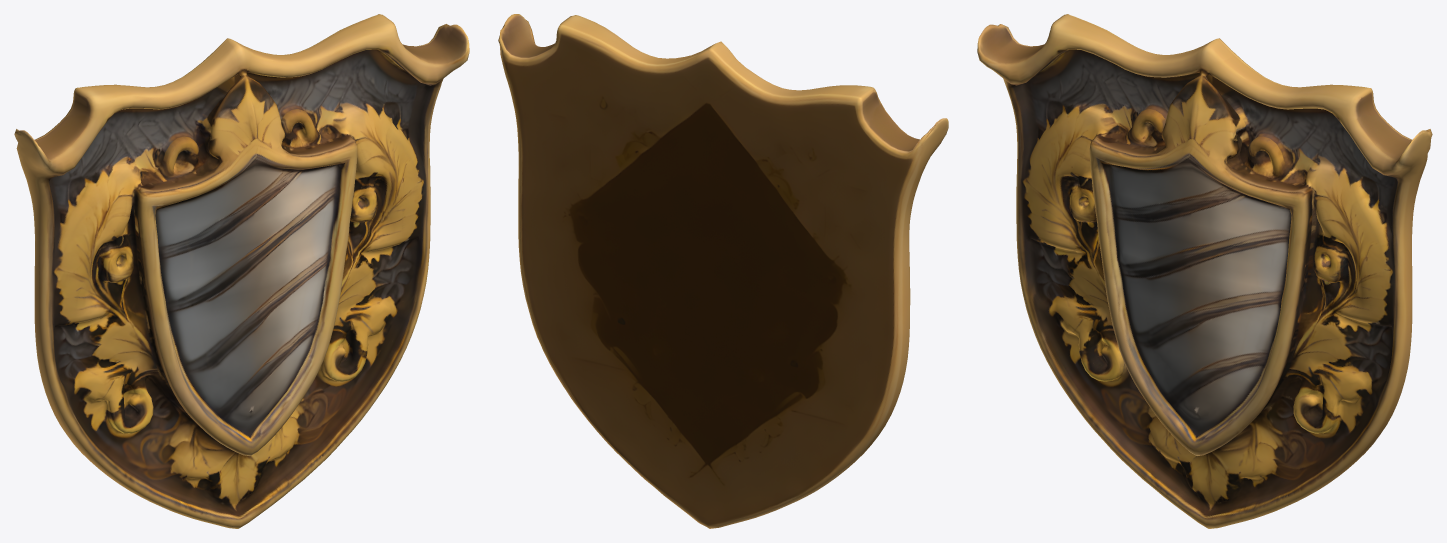
Rendered from lod_basic_pbr.fbx.
3 views of the same model, side by side, from view 1: azimuth 30°, elevation 25°; view 2: azimuth 150°, elevation 25°; view 3: azimuth 330°, elevation 25° (orthographic).
Parts seen in each view (by area): view 1: model_LOD0; view 2: model_LOD0; view 3: model_LOD0.
Boxes of the visible parts, box(x1,y1,x2,y2) form: model_LOD0: box(14, 14, 469, 528); model_LOD0: box(498, 14, 948, 528); model_LOD0: box(977, 14, 1432, 528).
Size of what is drawn, in the model's own units: 146 by 156 by 18.02.
Materials: 1 (1 with a texture image).
